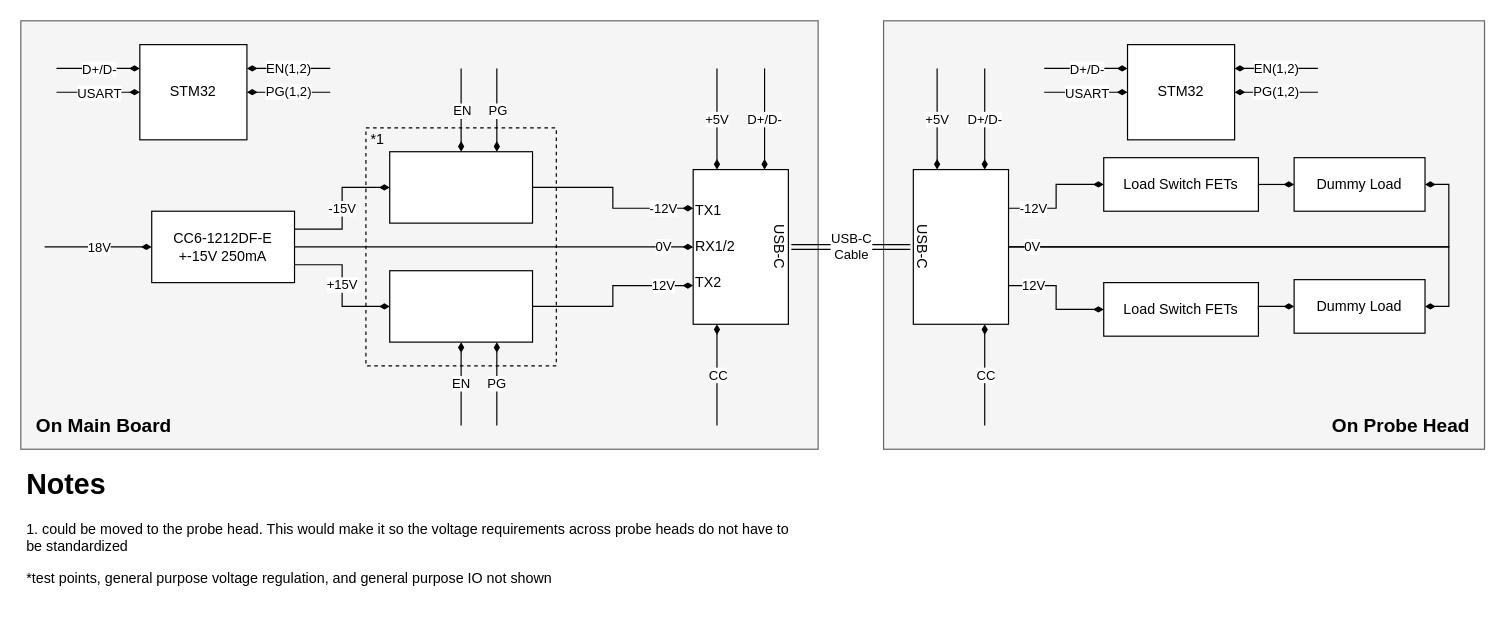
This 1505x625 diagram has some shape labels left out. Here are the shapes that lost their labels. From the top down, the centre of each, then its label:
At point (461, 187): "LT3094 (500mA 0 to -19.5V)".
At point (461, 306): "LT3045-1 (500mA 0 to 15V)".
